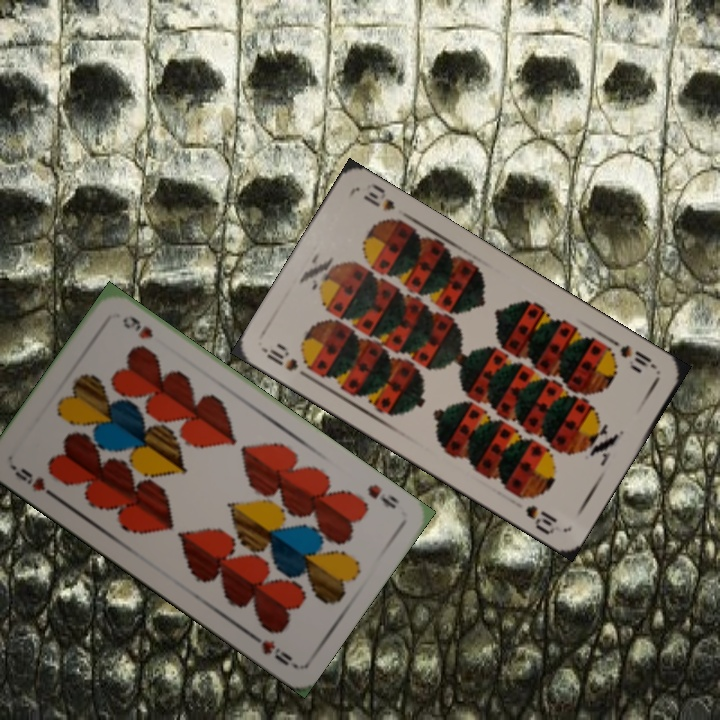H9: (8, 461, 60, 502), (363, 480, 402, 512)
S10: (260, 340, 314, 383), (616, 341, 660, 372)
